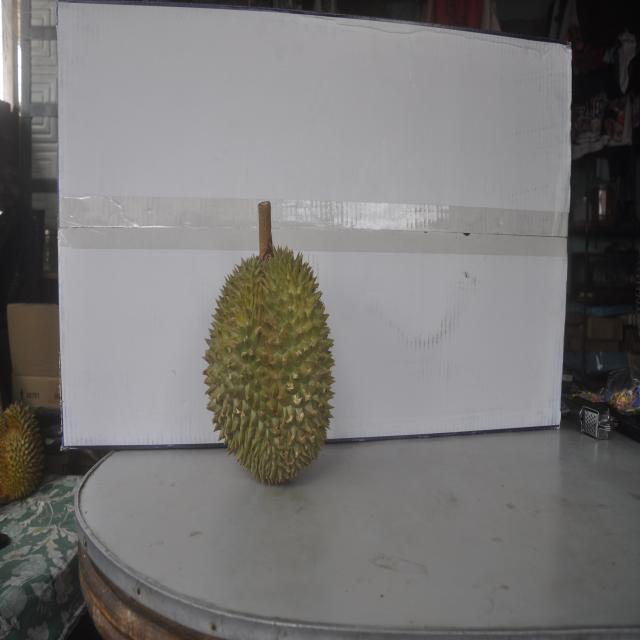mature: (200, 227, 337, 486), (0, 398, 45, 505)
